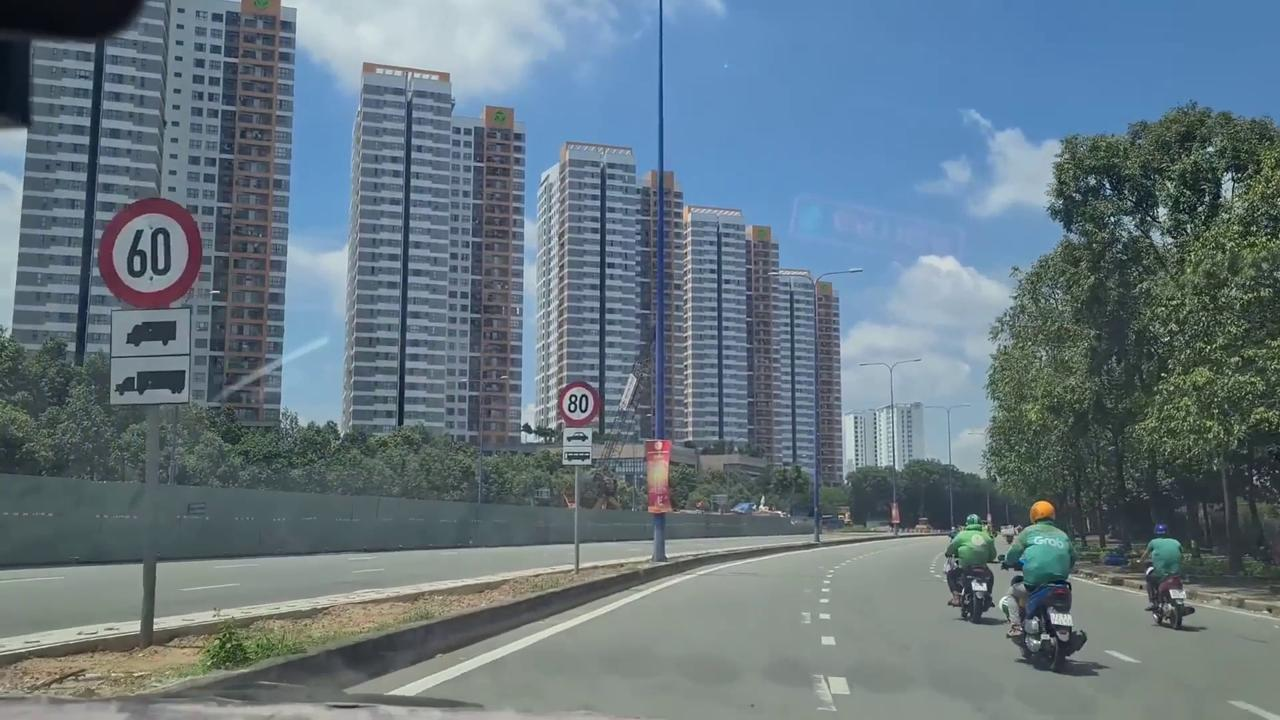Biển phụ: (107, 306, 191, 407), (561, 426, 593, 466)
GIơi hạn tốc độ 60Km/h: (96, 196, 205, 311)
Giới hạn tốc độ 80Km/h: (558, 381, 600, 427)
